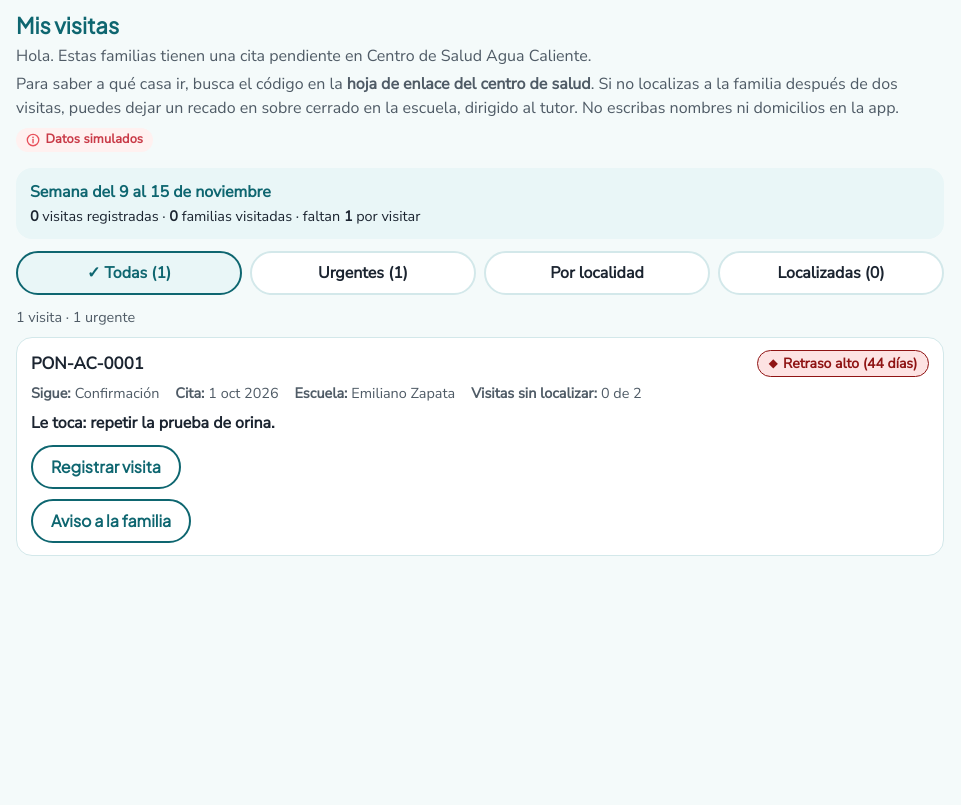
Aviso a la familia (HU06) › espera a que carguen las voces (voiceschanged) antes de elegir
Click the button "Aviso a la familia".
click(111, 521)  # box [31, 499, 191, 543]
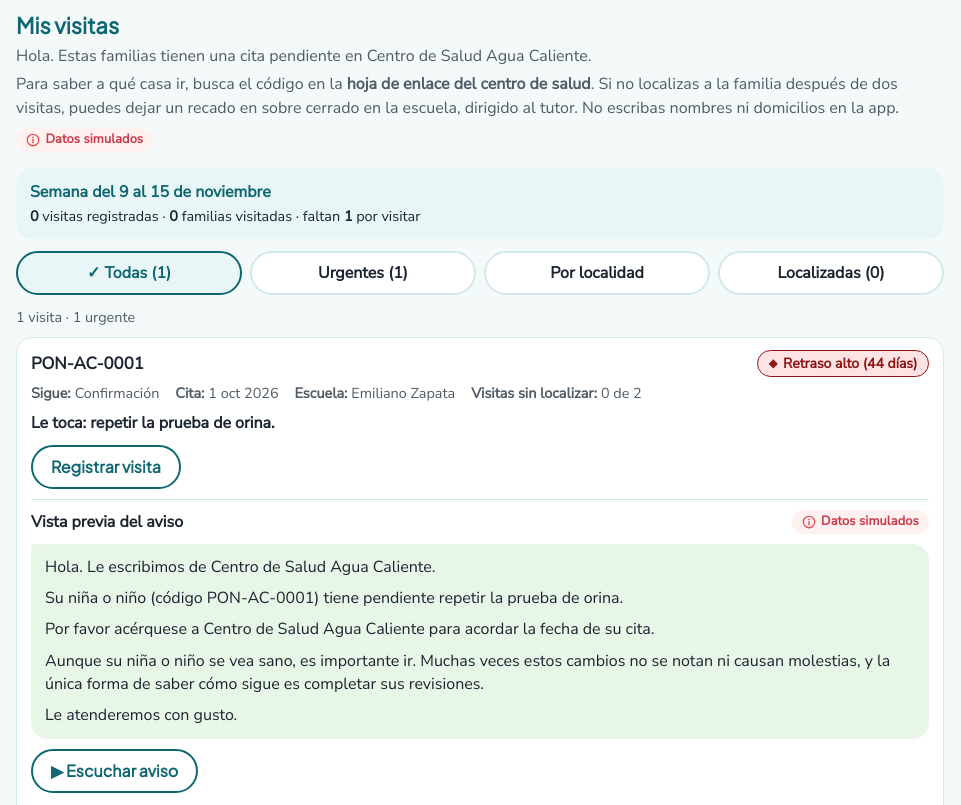
Click the button "▶ Escuchar aviso".
click(115, 771)  # box [31, 749, 198, 793]
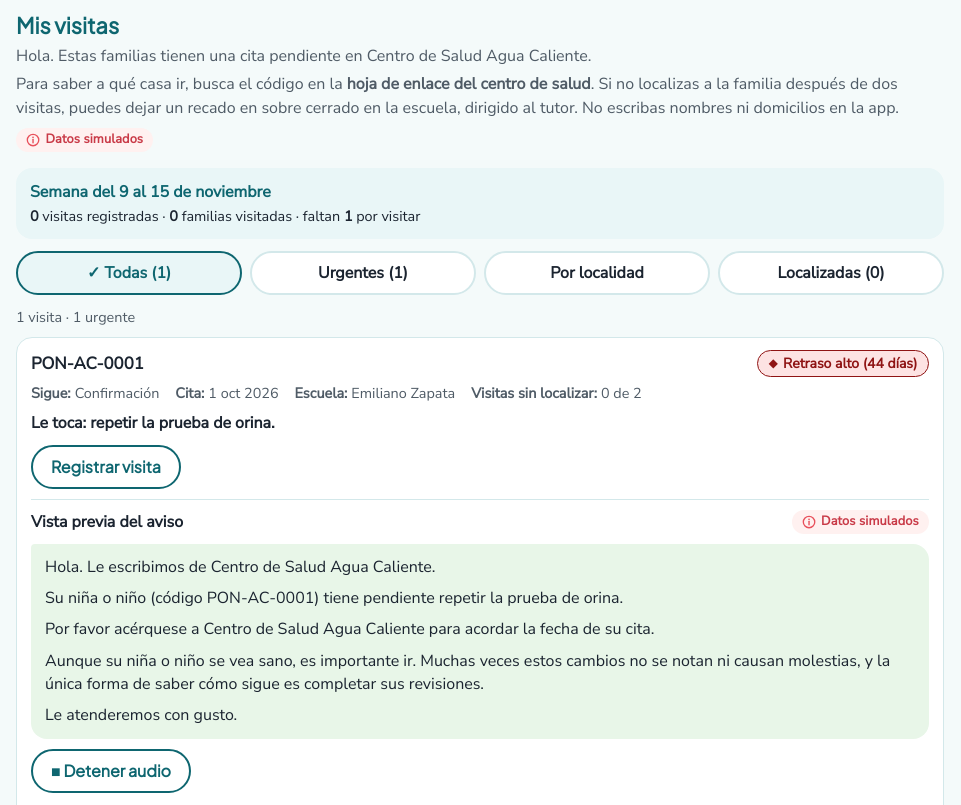
Result: the button "■ Detener audio" is shown at [31, 749, 191, 793]
